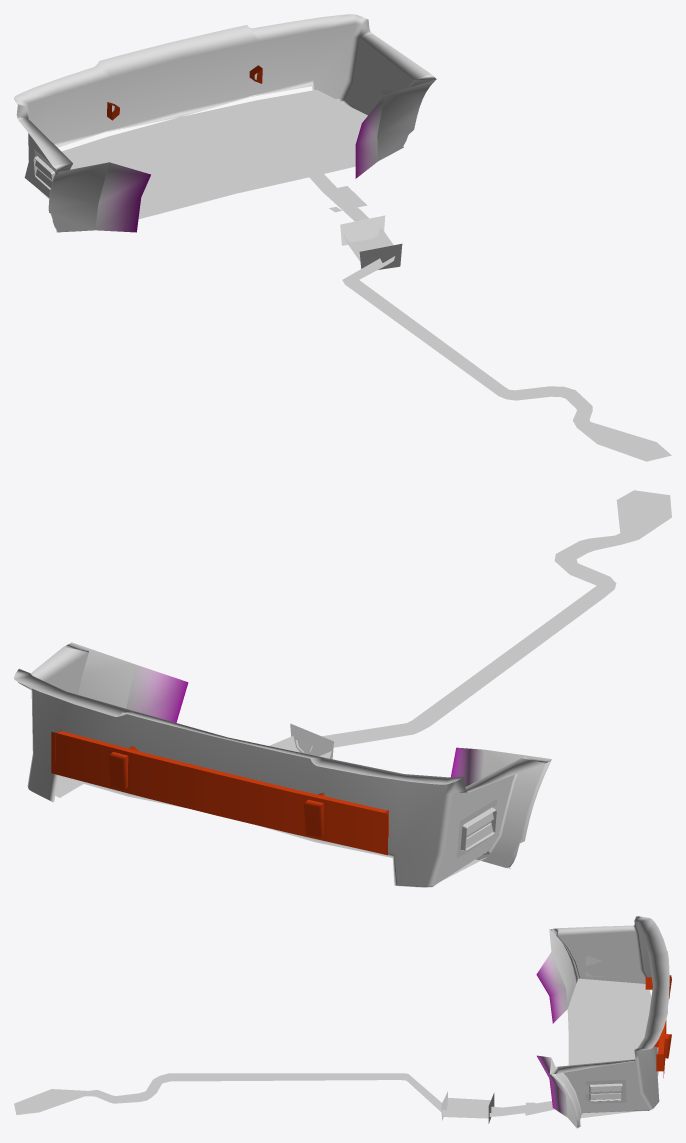
File: Car_Nissan_SkylineGTRVspecR34_1999_BumperChassisR_SetA_AltA.fbx
The picture shows the model from 3 angles, top to bottom: view 1: azimuth 30°, elevation 25°; view 2: azimuth 150°, elevation 25°; view 3: azimuth 270°, elevation 25°; orthographic projection. The views are drawn at different scales.
Visible parts, largest first — view 1: BumperChassisR 6; view 2: BumperChassisR 6; view 3: BumperChassisR 6.
Boxes of the visible parts, <box> form: BumperChassisR 6: <box>14,14,671,461</box>; BumperChassisR 6: <box>14,490,671,887</box>; BumperChassisR 6: <box>14,916,671,1128</box>.
Bounding box in the file's own units: 1.77 × 0.6211 × 3.38.
